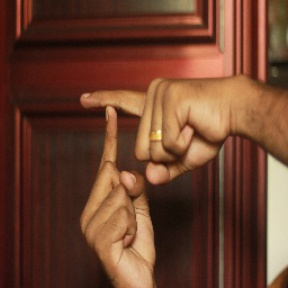T: (47, 67, 181, 213)
